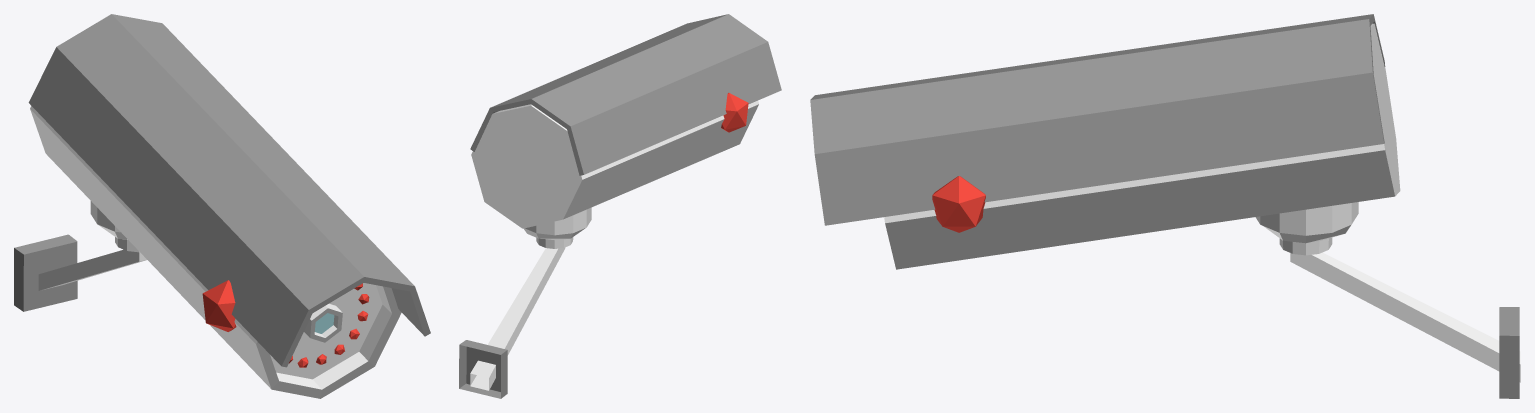
File: camera.fbx
The picture shows the model from 3 angles, left to right: view 1: azimuth 30°, elevation 25°; view 2: azimuth 150°, elevation 25°; view 3: azimuth 270°, elevation 25°; orthographic projection. The views are drawn at different scales.
Parts seen in each view (by area): view 1: CCTV_CAMERA.001, CCTV_CAMERA, CCTV_CAMERA.002; view 2: CCTV_CAMERA.001, CCTV_CAMERA, CCTV_CAMERA.002; view 3: CCTV_CAMERA.001, CCTV_CAMERA, CCTV_CAMERA.002.
Part boxes in pixels (bbox=[...]): CCTV_CAMERA.001: bbox=[28, 14, 430, 398]; CCTV_CAMERA: bbox=[14, 201, 146, 311]; CCTV_CAMERA.002: bbox=[202, 280, 236, 331]; CCTV_CAMERA.001: bbox=[470, 14, 781, 228]; CCTV_CAMERA: bbox=[459, 207, 591, 398]; CCTV_CAMERA.002: bbox=[721, 93, 748, 132]; CCTV_CAMERA.001: bbox=[810, 14, 1400, 269]; CCTV_CAMERA: bbox=[1255, 202, 1520, 398]; CCTV_CAMERA.002: bbox=[932, 176, 985, 232].
Bounding box in the file's own units: 120 × 213 × 375.
